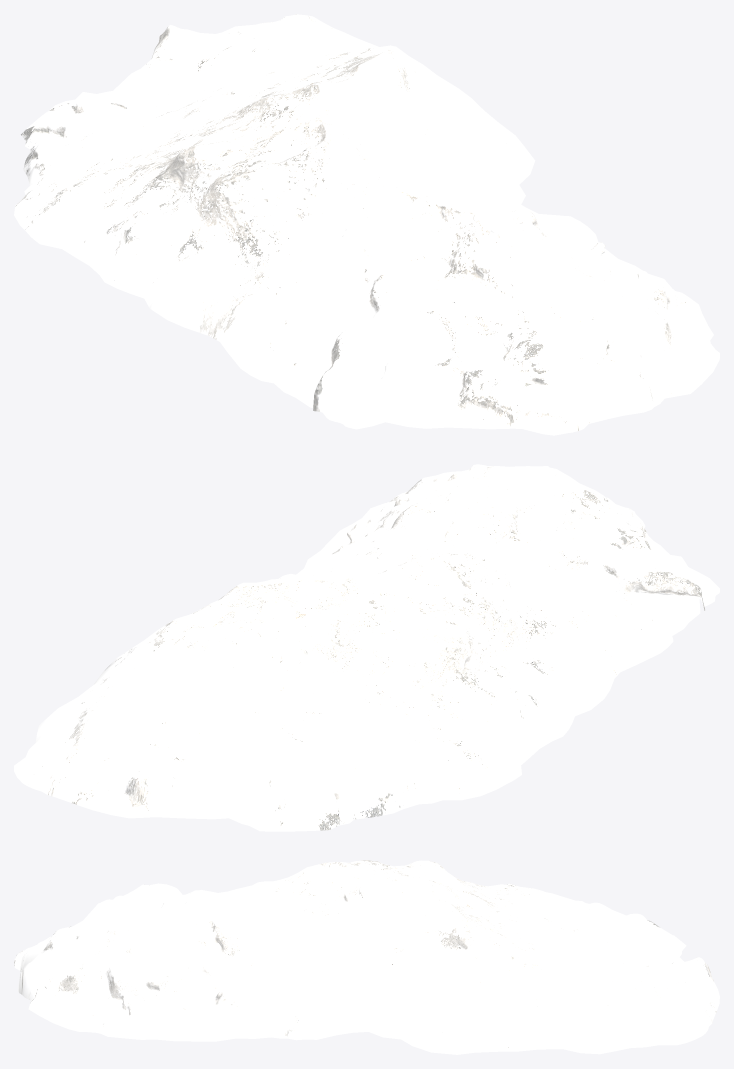
The model's file is Snowdrift.glb.
3 renders of one model, top to bottom at view 1: azimuth 30°, elevation 25°; view 2: azimuth 150°, elevation 25°; view 3: azimuth 270°, elevation 25°, orthographic. The views are drawn at different scales.
Visible parts, largest first — view 1: 路面积雪; view 2: 路面积雪; view 3: 路面积雪.
Part boxes in pixels (x1=…): 路面积雪: x1=14, y1=14, x2=719, y2=435; 路面积雪: x1=14, y1=464, x2=719, y2=831; 路面积雪: x1=14, y1=860, x2=719, y2=1054.
Bounding box in the file's own units: 1.1 × 0.2999 × 2.
1 material, 1 textured.
